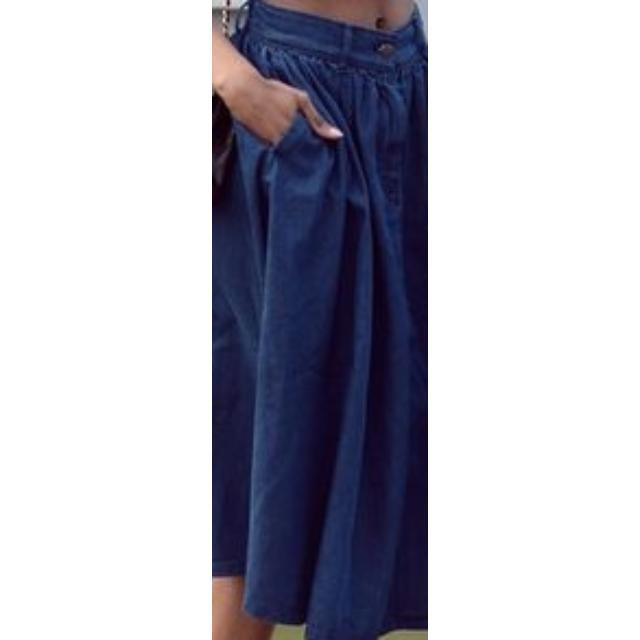denim: (296, 145, 428, 620)
